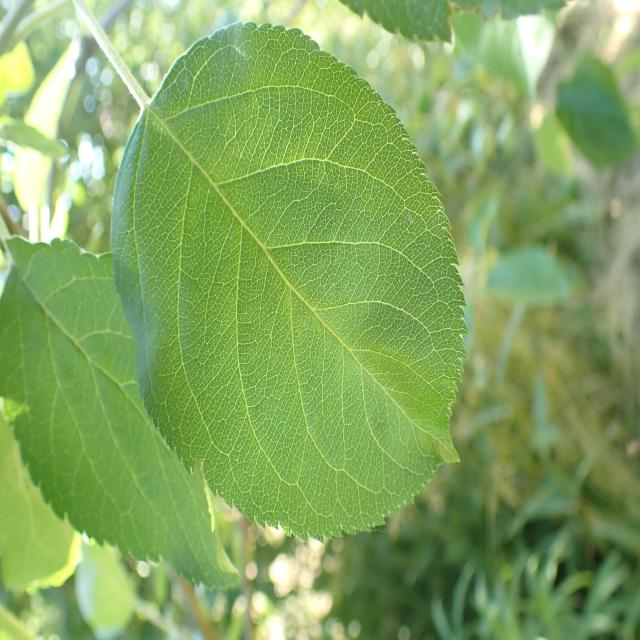healthy: (112, 19, 470, 546), (0, 235, 242, 592)
